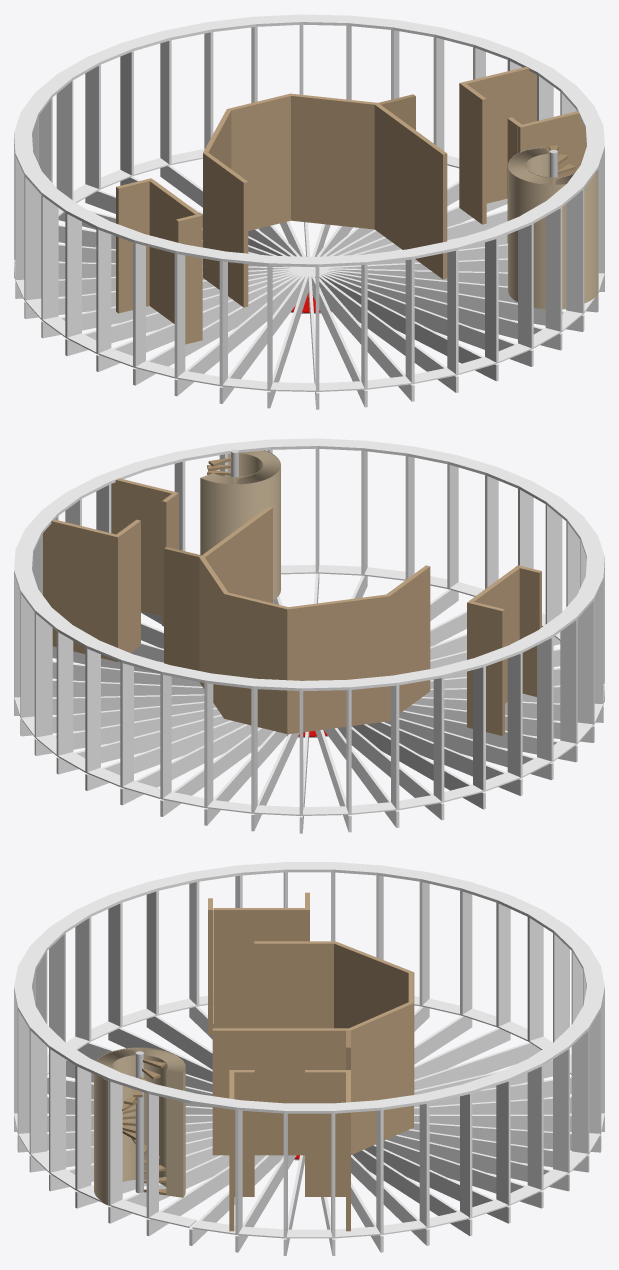
Rendered from casa_structura.glb.
3 renders of one model, top to bottom at view 1: azimuth 30°, elevation 25°; view 2: azimuth 150°, elevation 25°; view 3: azimuth 270°, elevation 25°, orthographic.
Parts seen in each view (by area): view 1: Cube.003, Cube.004, Strohballenwand, Cube, Cube.001, Cube.009, Cube.007, Cube.010, Cube.006, Cube.012, Cube.008, Wandstiel_024 (+59 smaller); view 2: Cube.002, Cube.009, Cube, Strohballenwand, Cube.001, Cube.012, Cube.004, Abstellraum, Cube.006, Cube.003, Cube.010, Cube.008 (+56 smaller); view 3: Cube.004, Strohballenwand, Cube.003, Cube.001, Cube.007, Cube.002, Cube.010, Wandstiel_022, Wandstiel_037, Wandstiel_024, Wandstiel_035, Wandstiel_005 (+62 smaller).
Boxes of the visible parts, x1,y1,x2,y2 form: Cube.003: (291,93,378,229); Cube.004: (374,104,447,279); Strohballenwand: (508,146,598,309); Cube: (227,93,292,230); Cube.001: (203,153,248,307); Cube.009: (459,67,536,209); Cube.007: (149,180,199,323); Cube.010: (462,84,486,224); Cube.006: (116,178,153,313); Cube.012: (518,111,586,176); Cube.008: (176,213,202,344); Wandstiel_024: (566,189,584,314); Cube.002: (286,594,389,734); Cube.009: (43,519,120,661); Cube: (223,592,289,733); Strohballenwand: (200,450,280,600); Cube.001: (386,565,430,720); Cube.012: (111,478,178,615); Cube.004: (201,506,272,603); Abstellraum: (164,547,201,670); Cube.006: (467,601,504,735); Cube.003: (199,556,227,717); Cube.010: (116,519,140,652); Cube.008: (515,565,541,696); Cube.004: (212,1028,348,1155); Strohballenwand: (94,1047,185,1205); Cube.003: (347,1001,413,1154); Cube.001: (254,941,335,1028); Cube.007: (213,908,304,1028); Cube.002: (334,941,414,1094); Cube.010: (305,1070,345,1196); Wandstiel_022: (29,1030,47,1154); Wandstiel_037: (571,1030,589,1154); Wandstiel_024: (75,1065,91,1190); Wandstiel_035: (527,1065,543,1190); Wandstiel_005: (527,917,543,1042).
Size of the model in its own units: 11.57 by 3.49 by 11.6.
